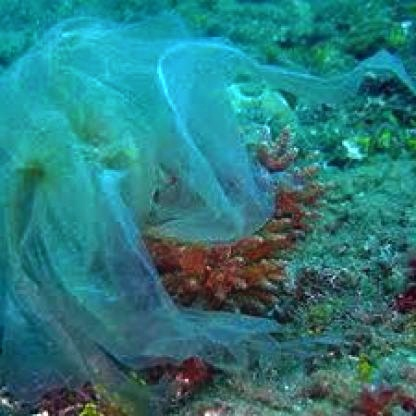pbag: (2, 19, 408, 401)
